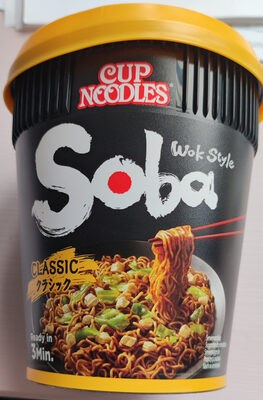SOBA Classic: (13, 20, 250, 380)
